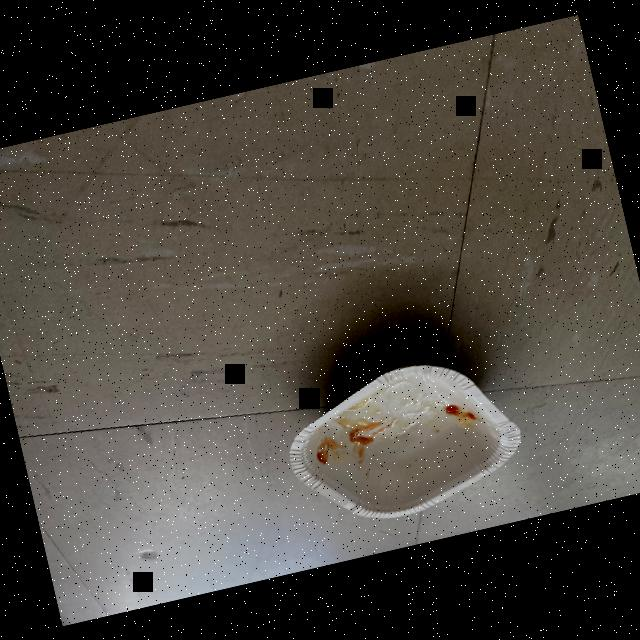cardboard_bowl: (262, 336, 544, 548)
